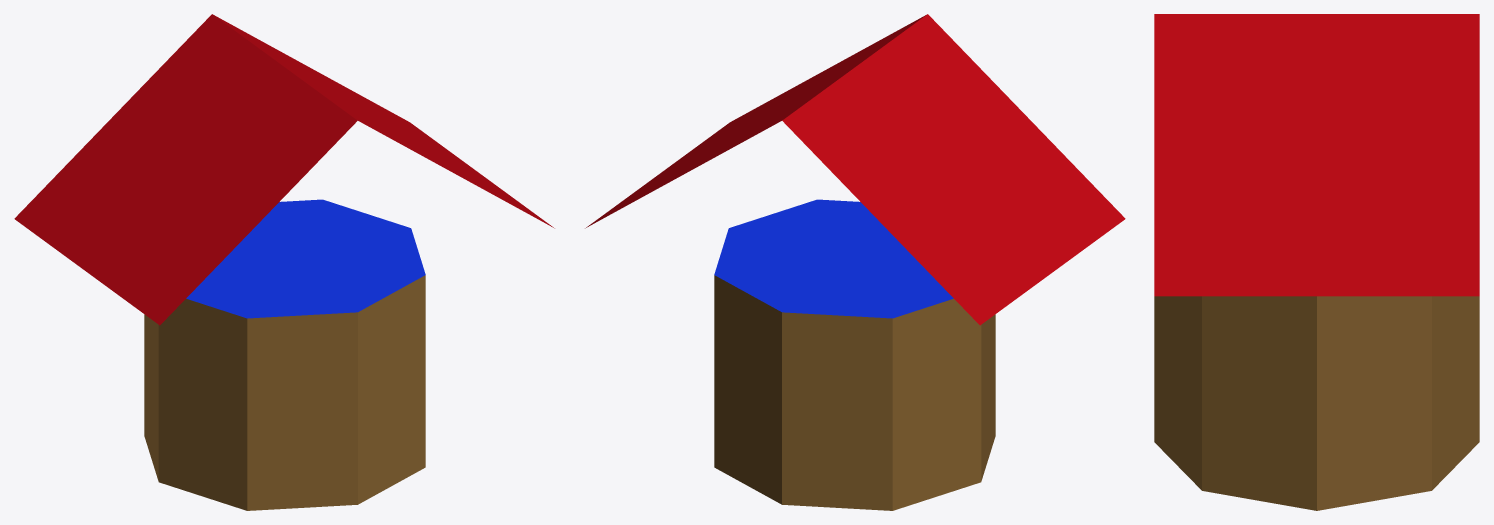
File: watter-well-low.fbx
The picture shows the model from 3 angles, left to right: view 1: azimuth 30°, elevation 25°; view 2: azimuth 150°, elevation 25°; view 3: azimuth 270°, elevation 25°; orthographic projection. The views are drawn at different scales.
Parts seen in each view (by area): view 1: water well-low; view 2: water well-low; view 3: water well-low.
Boxes of the visible parts, box(x1,y1,x2,y2) form: water well-low: box(14, 14, 554, 510); water well-low: box(585, 14, 1125, 510); water well-low: box(1154, 14, 1479, 510).
Size of the model in its own units: 3.14 by 2 by 2.91.
